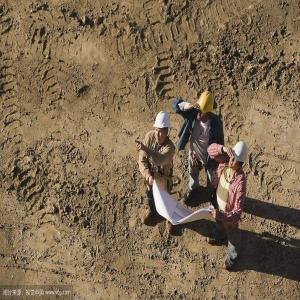white: (229, 142, 250, 171), (154, 112, 171, 146)
yellow: (198, 92, 215, 121)
